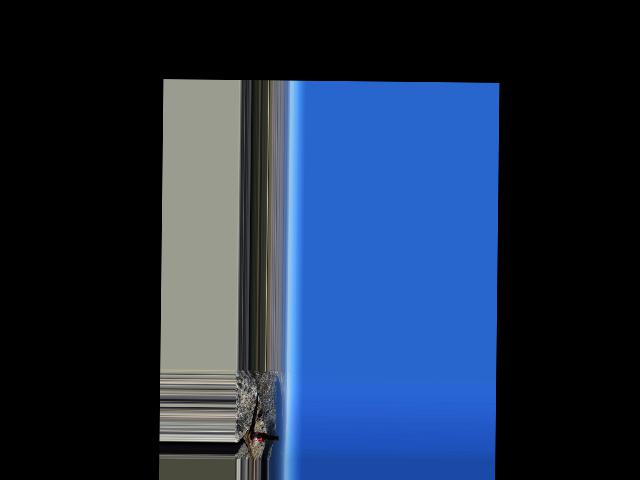beer: (251, 432, 278, 441)
